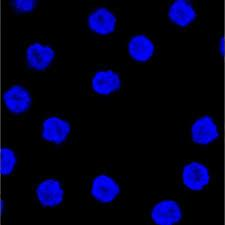cell: (2, 84, 33, 115), (92, 174, 121, 207), (88, 7, 118, 36), (150, 201, 184, 225), (168, 0, 197, 28), (35, 179, 63, 208), (183, 162, 208, 192), (42, 116, 69, 143), (192, 118, 220, 144), (92, 70, 121, 95), (27, 45, 55, 70), (129, 36, 154, 63), (0, 147, 18, 178), (219, 36, 224, 56), (0, 199, 5, 214)
